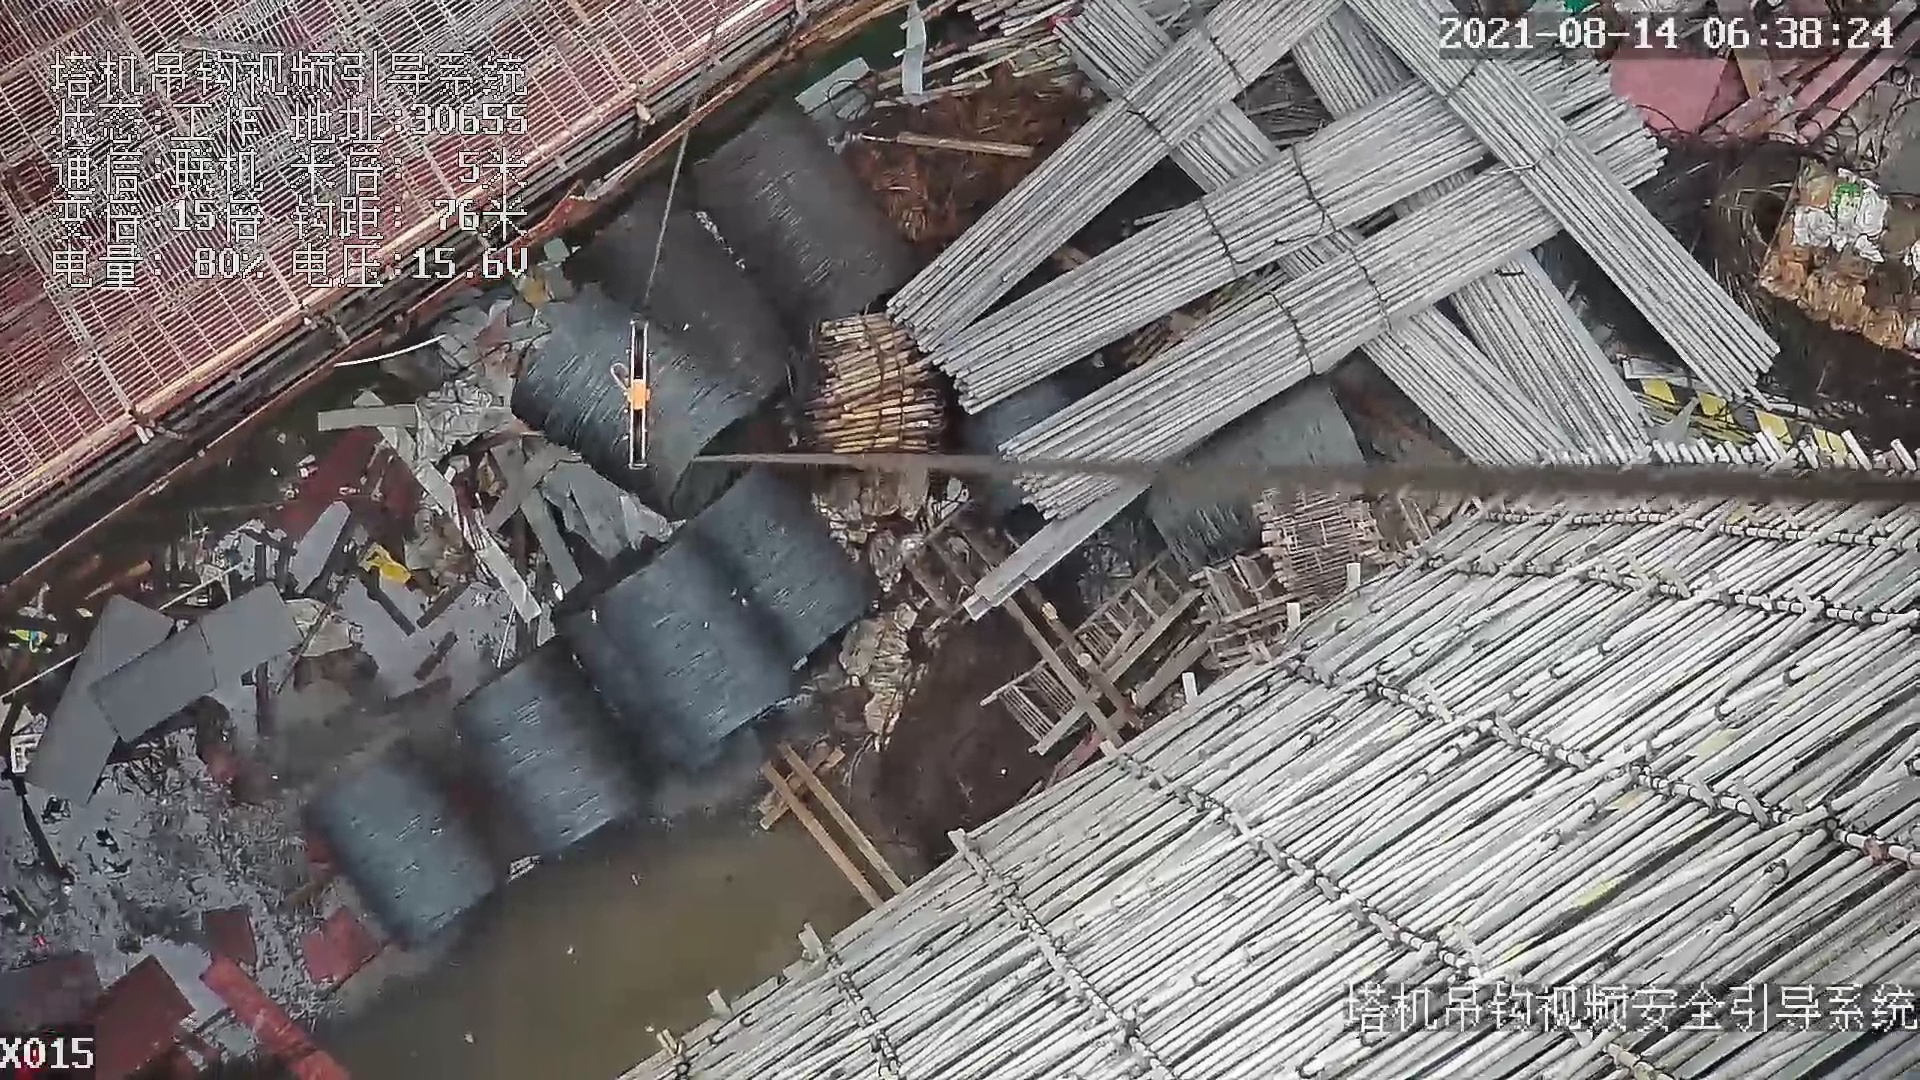hook: (611, 306, 659, 477)
